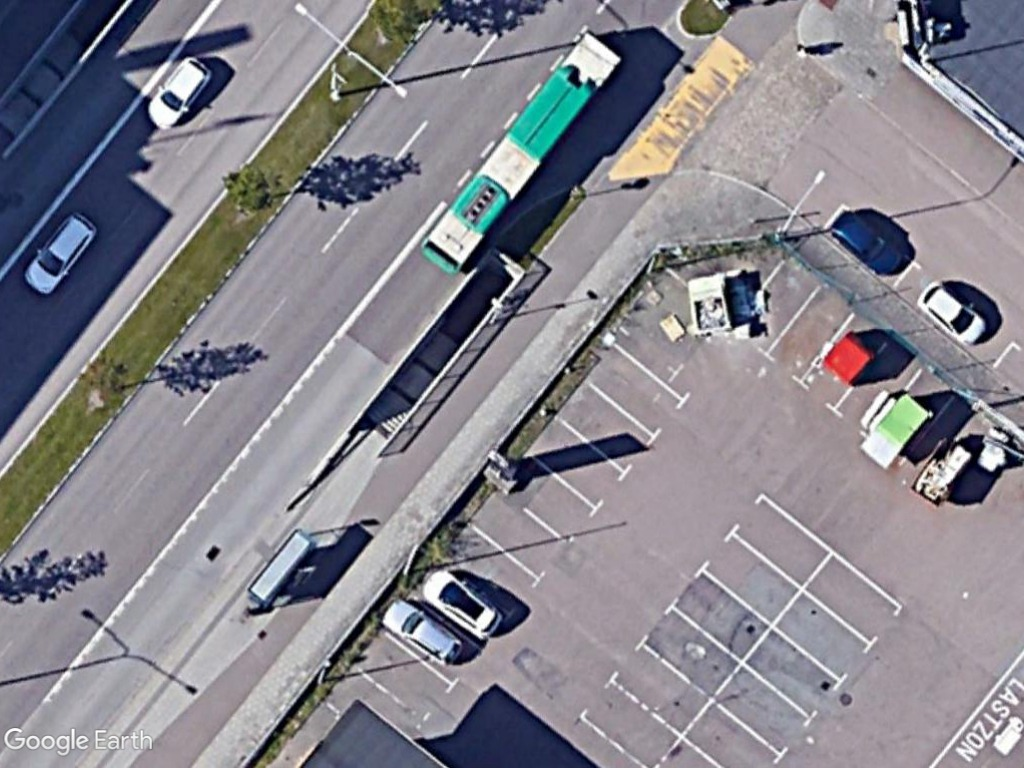bus: (413, 30, 621, 279)
car: (23, 207, 100, 296), (379, 595, 466, 669), (422, 560, 501, 637), (142, 53, 217, 132), (910, 277, 991, 348), (827, 209, 911, 277)
